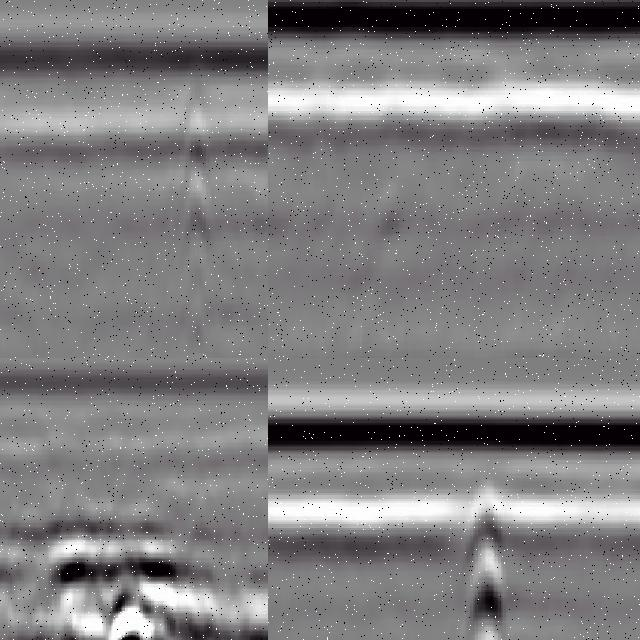crack: (181, 53, 211, 359), (470, 476, 500, 640)
loose: (25, 490, 221, 640)
